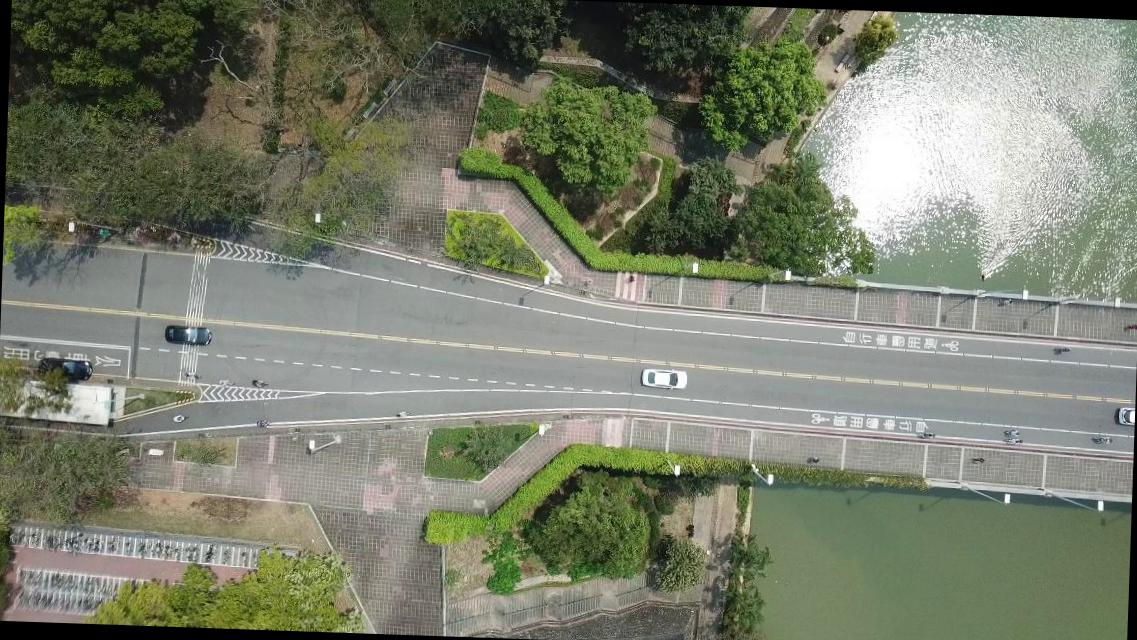vehicle: (36, 358, 93, 380), (640, 366, 686, 389), (163, 324, 211, 344), (1116, 406, 1134, 426)
